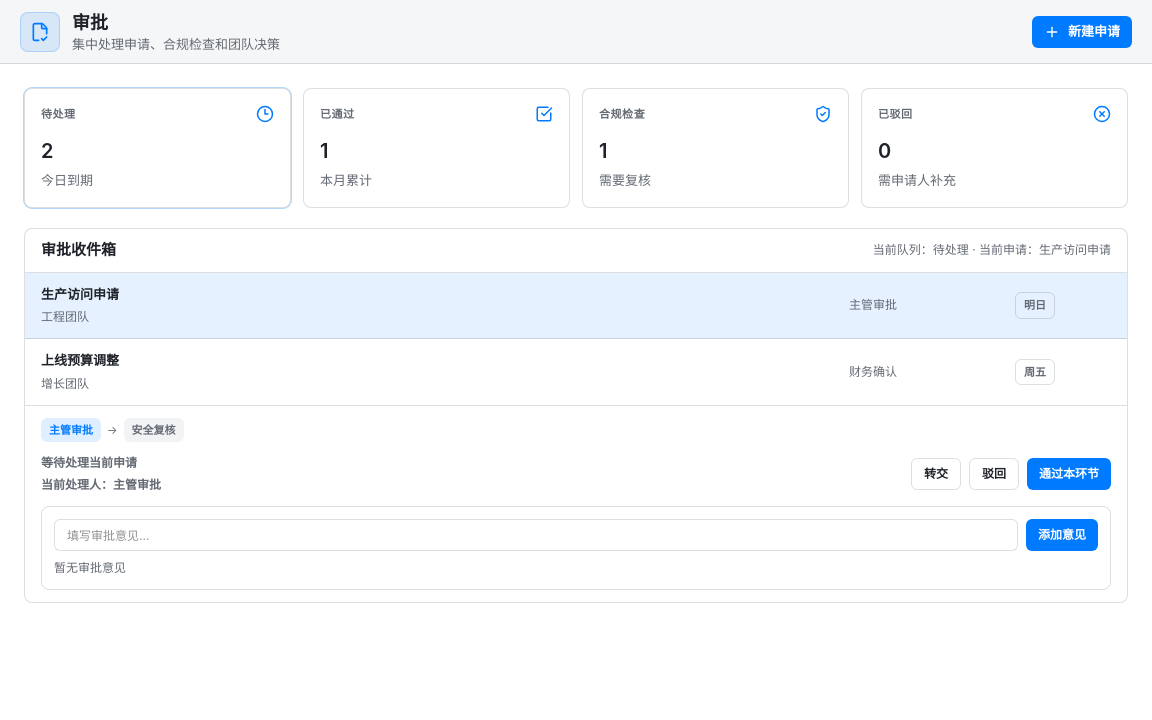
Test case: workspace secondary pages › shows an empty state for an empty approval queue
The width and height of the screenshot is (1152, 720).
Click the element with test id "approvals-queue-rejected": (994, 148) [861,88,1128,208]
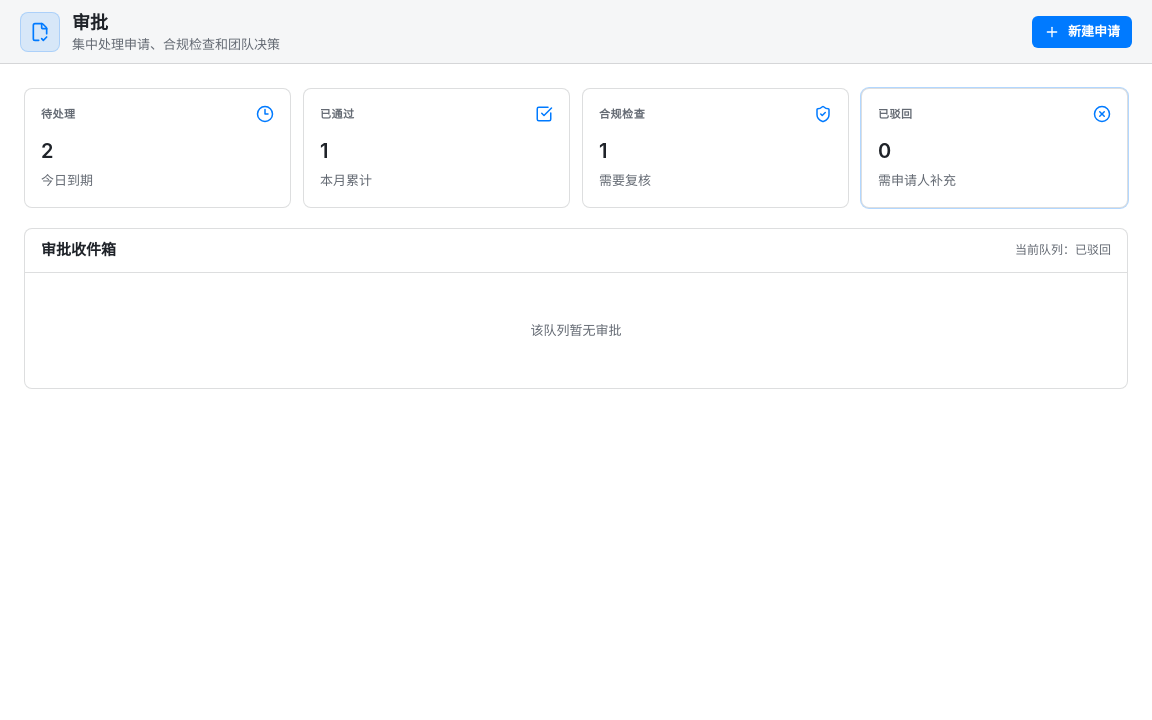
Check: the text "该队列暂无审批" is shown, box [530,322,622,338]
